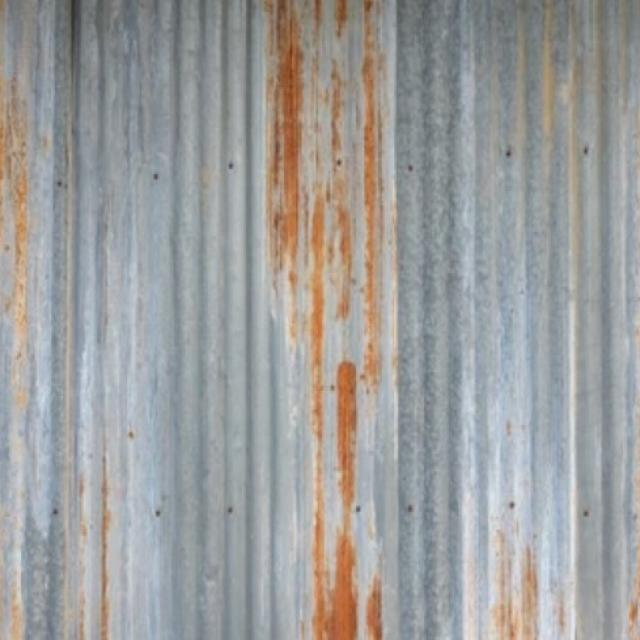Corrosion: (308, 200, 339, 640), (270, 179, 291, 330), (338, 362, 357, 512), (332, 536, 356, 640), (280, 30, 302, 142), (367, 576, 384, 640)
